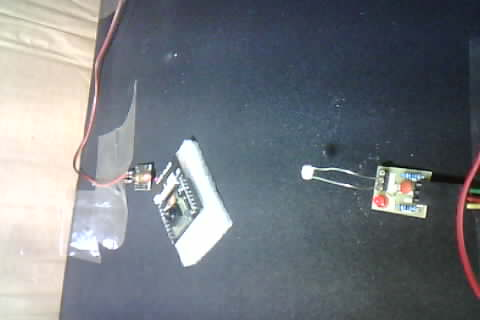esp32: (148, 136, 230, 261)
